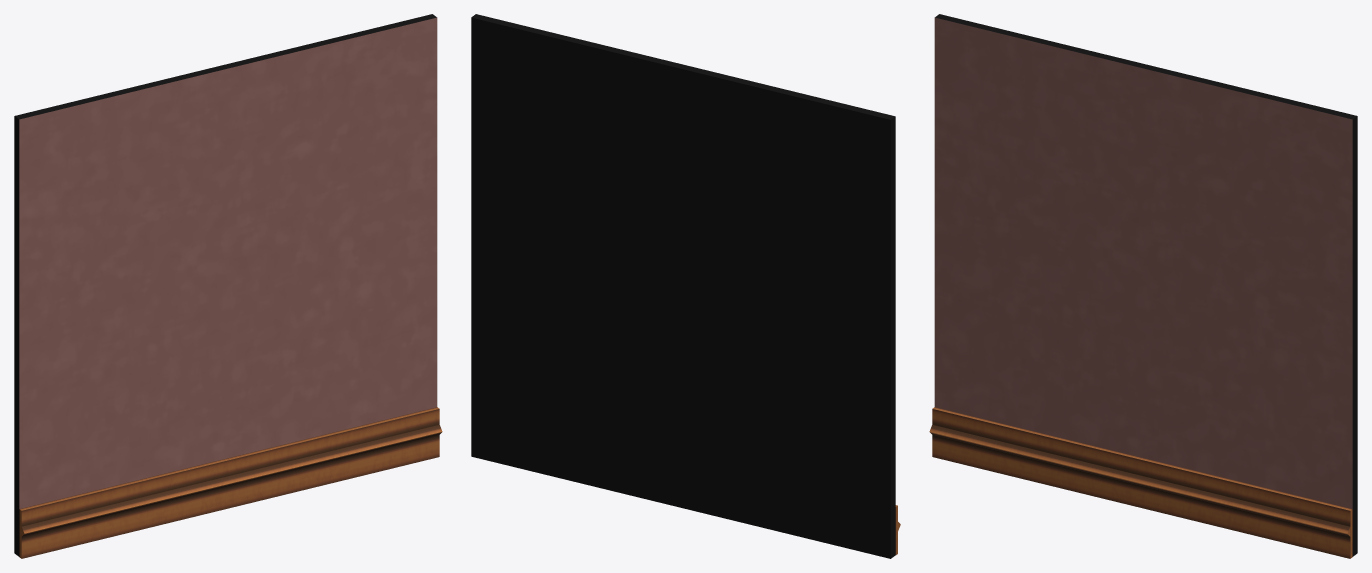
Rendered from Wall_C_03.FBX.
3 renders of one model, left to right at view 1: azimuth 30°, elevation 25°; view 2: azimuth 150°, elevation 25°; view 3: azimuth 330°, elevation 25°, orthographic.
Visible parts, largest first — view 1: Wall_A_01; view 2: Wall_A_01; view 3: Wall_A_01.
Boxes of the visible parts, x1,y1,x2,y2 form: Wall_A_01: (14,14,442,558); Wall_A_01: (471,14,900,558); Wall_A_01: (929,14,1357,558).
Bounding box in the file's own units: 500 × 500 × 20.82.
